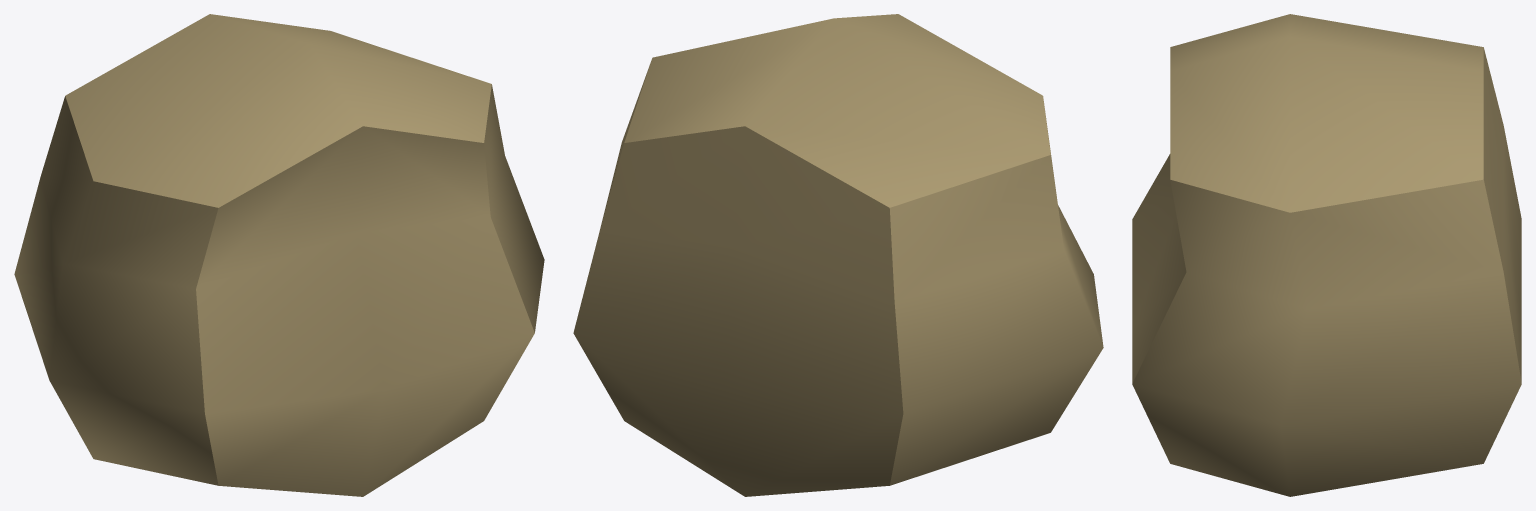
The model's file is stone.fbx.
The picture shows the model from 3 angles, left to right: view 1: azimuth 30°, elevation 25°; view 2: azimuth 150°, elevation 25°; view 3: azimuth 270°, elevation 25°; orthographic projection. The views are drawn at different scales.
Parts seen in each view (by area): view 1: stone2; view 2: stone2; view 3: stone2.
Boxes of the visible parts, x1,y1,x2,y2 form: stone2: [14, 14, 544, 496]; stone2: [573, 14, 1103, 496]; stone2: [1132, 14, 1521, 496].
Size of the model in its own units: 1320 by 1039 by 879.
